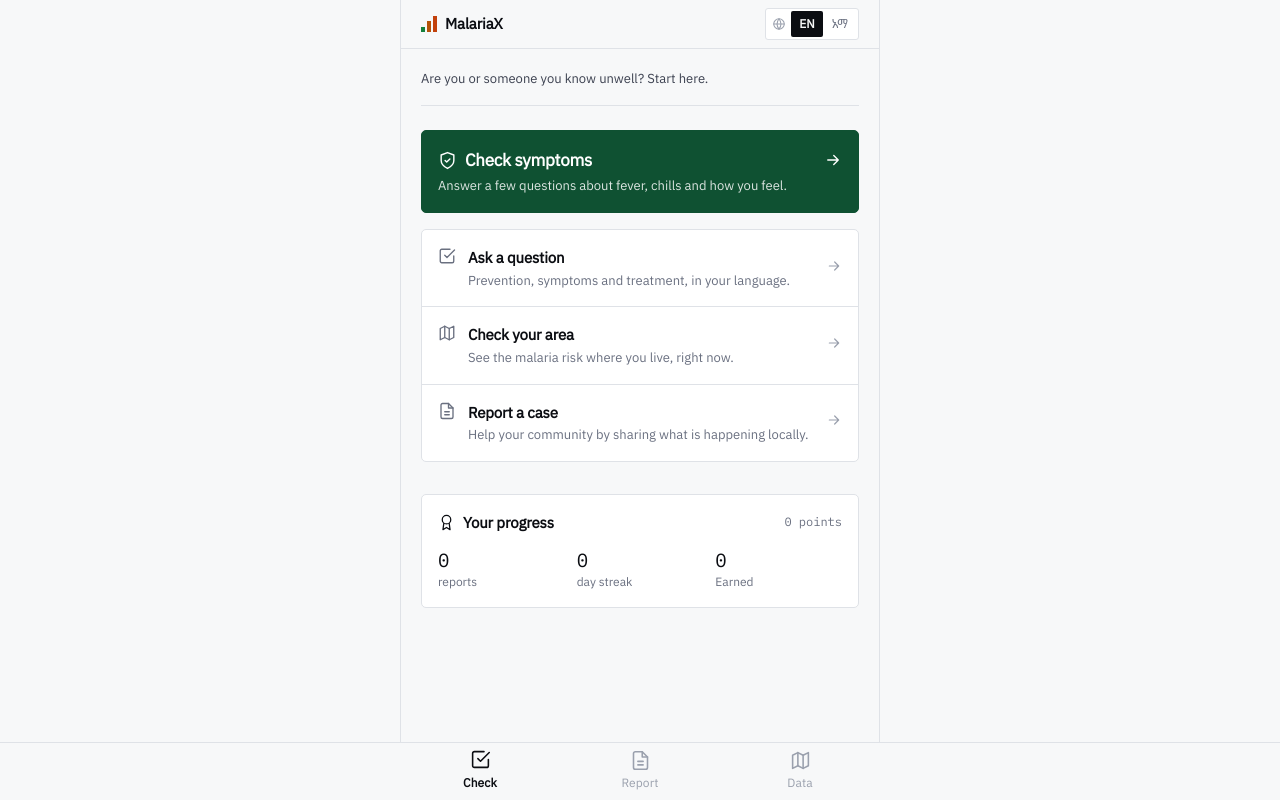
Test case: Symptom check flow › keeps the submit button disabled until something is selected
Click the text "Check symptoms" at (515,160), box left=438, top=147, right=592, bottom=173
(page scrolled)
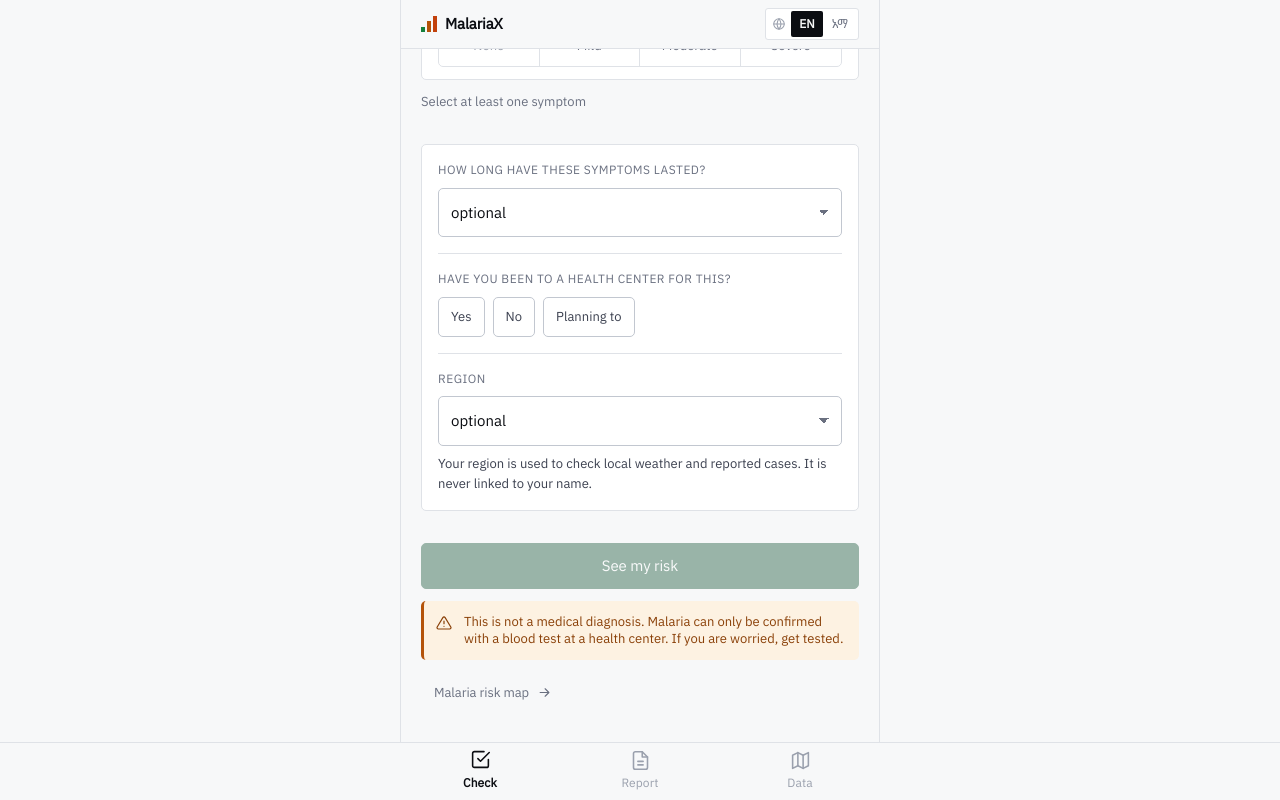
Expected: the button "See my risk" is disabled, left=421, top=543, right=859, bottom=589
